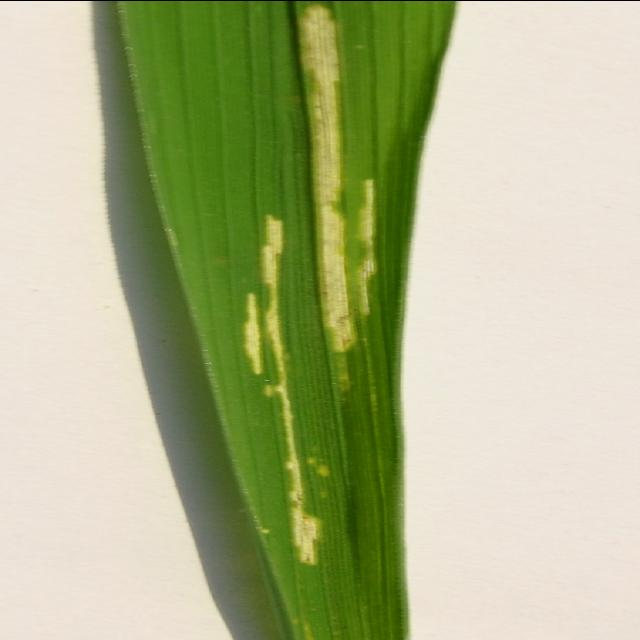Unhealthy: (260, 214, 319, 565), (295, 5, 348, 349), (358, 176, 377, 313), (243, 292, 260, 373), (261, 528, 270, 533)
